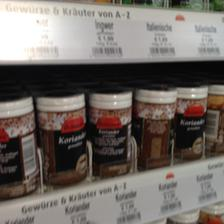Gewuerze: (34, 89, 86, 183), (1, 94, 40, 198), (88, 86, 132, 178), (132, 83, 176, 169), (170, 82, 208, 158)
